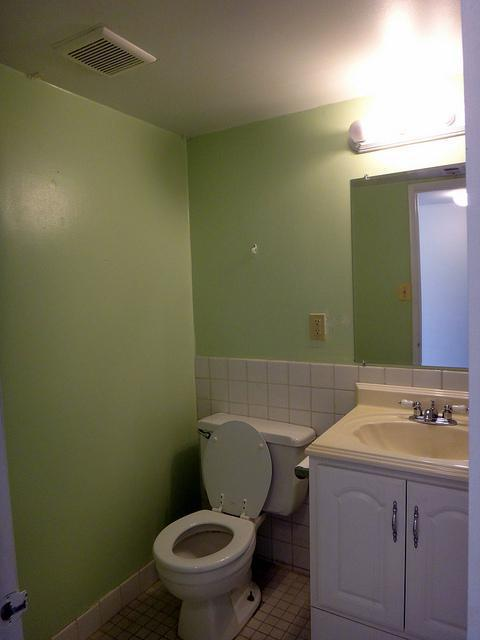Lavamanos: (332, 390, 479, 478)
